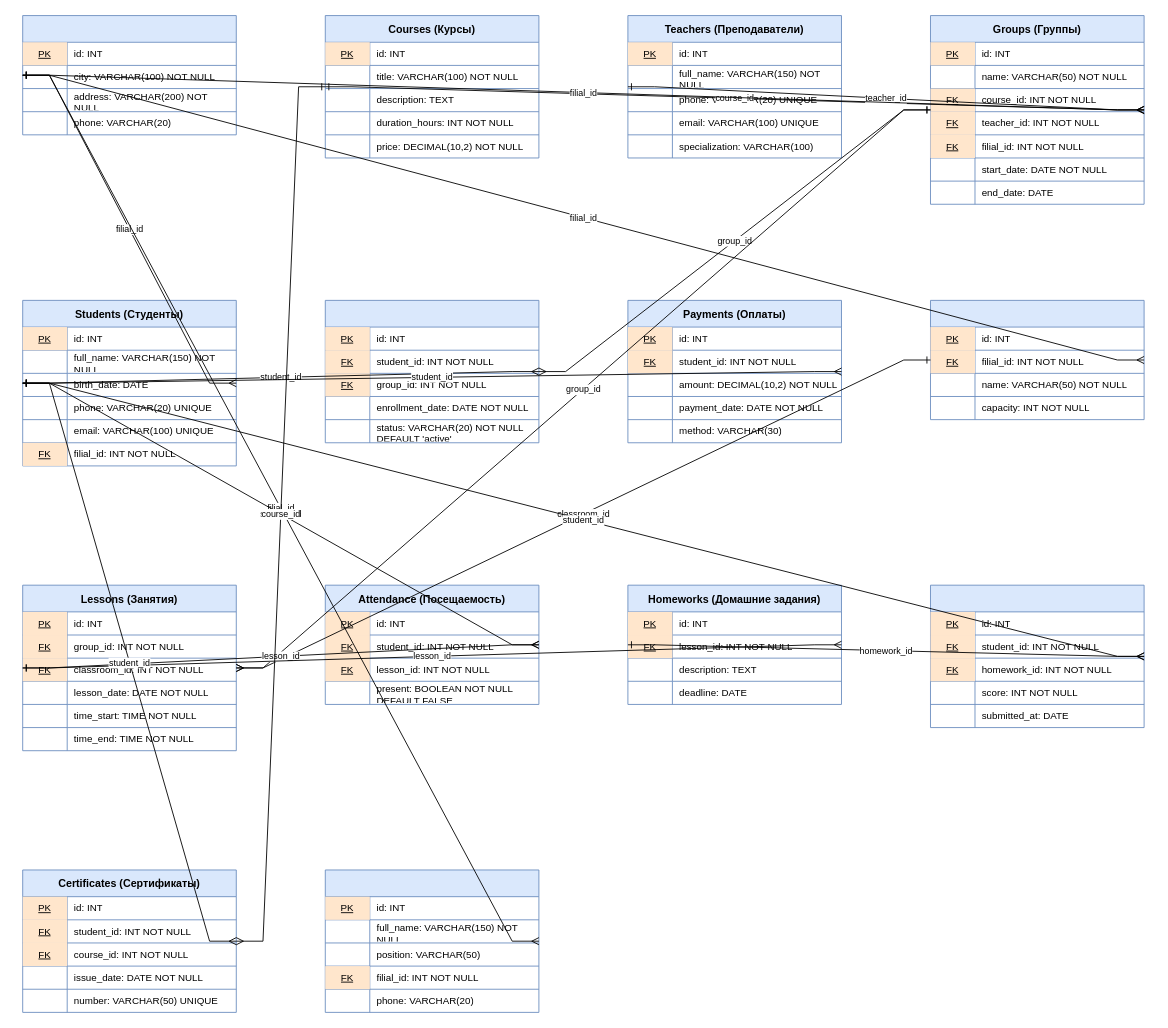
This 1168x1028 diagram has some shape labels left out. Each missing label, with the box of its shape:
Classrooms (Аудитории): (930, 299, 1144, 420)
Enrollments (Зачисления): (324, 299, 539, 443)
Filials (Филиалы): (22, 15, 236, 135)
Grades (Оценки): (930, 584, 1144, 728)
Staff (Сотрудники): (324, 869, 539, 1012)
